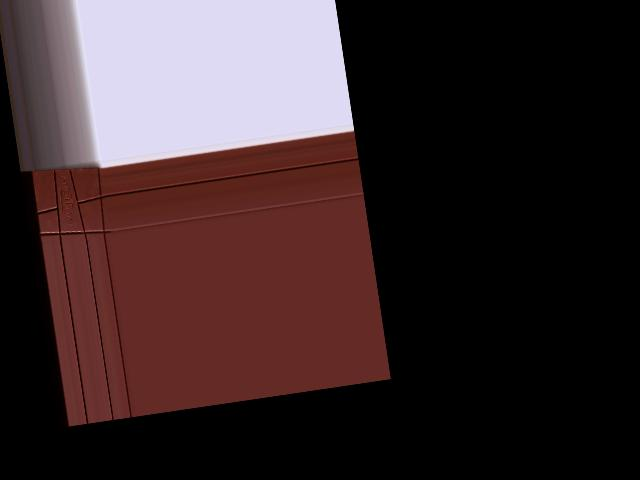chocolate: (26, 159, 111, 247)
